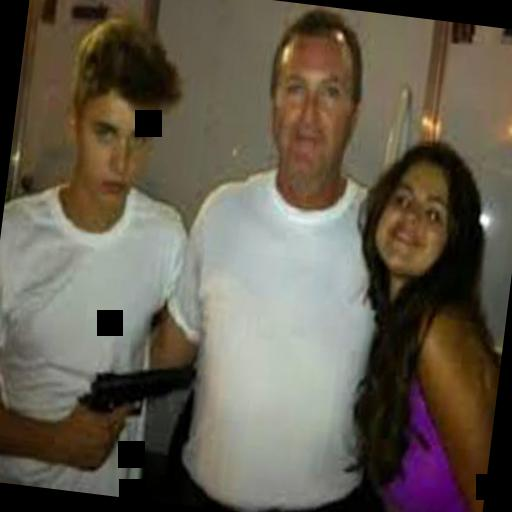Handgun: (63, 344, 202, 472)
